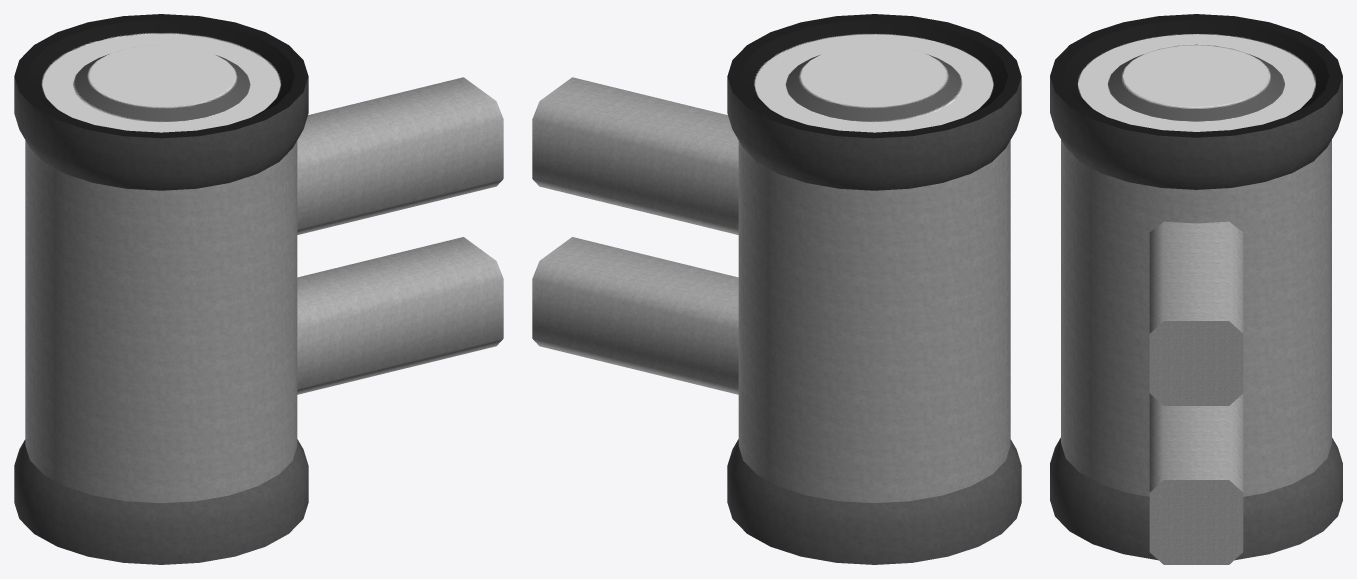
File: radial-adapter2.fbx
The picture shows the model from 3 angles, left to right: view 1: azimuth 30°, elevation 25°; view 2: azimuth 150°, elevation 25°; view 3: azimuth 270°, elevation 25°; orthographic projection.
Parts seen in each view (by area): view 1: radial-adapter-s1-2-mk2, fixing-bar_003, fixing-bar; view 2: radial-adapter-s1-2-mk2, fixing-bar_003, fixing-bar; view 3: radial-adapter-s1-2-mk2, fixing-bar, fixing-bar_003.
Boxes of the visible parts, x1,y1,x2,y2 form: radial-adapter-s1-2-mk2: (14,14,308,564); fixing-bar_003: (297,237,503,394); fixing-bar: (297,77,503,234); radial-adapter-s1-2-mk2: (727,14,1021,564); fixing-bar_003: (532,237,738,394); fixing-bar: (532,77,738,234); radial-adapter-s1-2-mk2: (1050,14,1342,560); fixing-bar: (1149,221,1243,405); fixing-bar_003: (1149,393,1243,564).
Size of what is drawn, in the model's own units: 2.19 by 2 by 1.25.
1 material, 1 textured.
